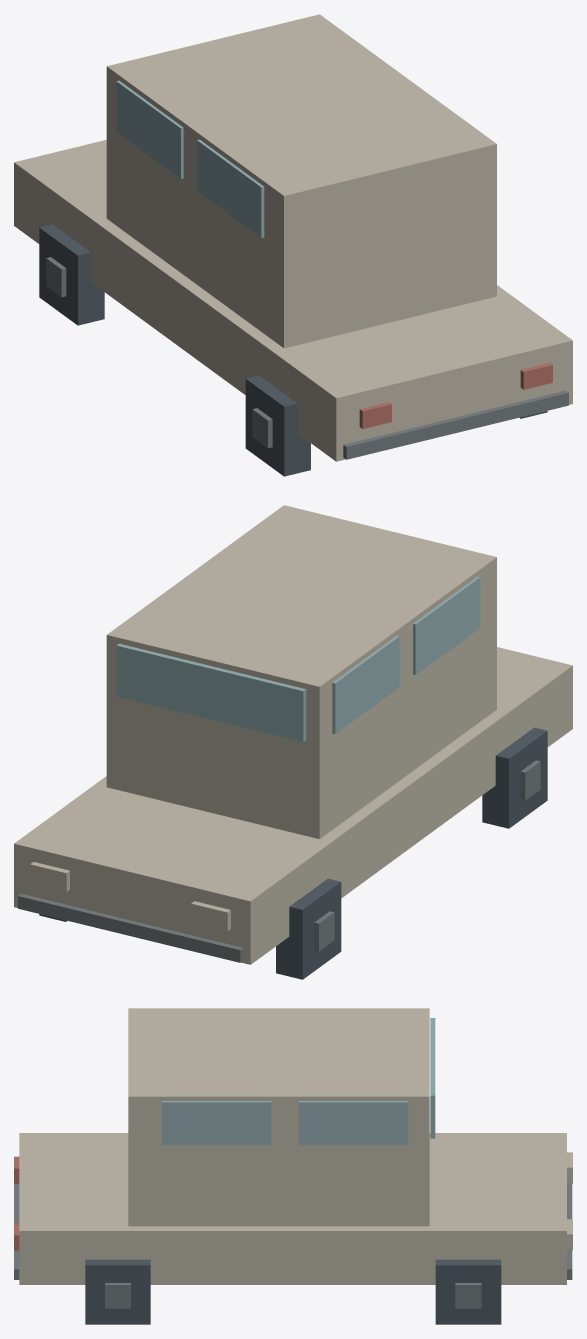
Rendered from van.glb.
3 renders of one model, top to bottom at view 1: azimuth 30°, elevation 25°; view 2: azimuth 150°, elevation 25°; view 3: azimuth 270°, elevation 25°, orthographic. The views are drawn at different scales.
Parts seen in each view (by area): view 1: body, wheel_-0.975_1.472, wheel_-0.975_-1.472; view 2: body, wheel_-0.975_1.472, wheel_-0.975_-1.472; view 3: body, wheel_0.975_-1.472, wheel_0.975_1.472.
Boxes of the visible parts, x1=… form: body: x1=14, y1=14, x2=572, y2=461; wheel_-0.975_1.472: x1=245, y1=375, x2=310, y2=476; wheel_-0.975_-1.472: x1=39, y1=224, x2=104, y2=325; body: x1=14, y1=505, x2=572, y2=964; wheel_-0.975_1.472: x1=482, y1=727, x2=547, y2=828; wheel_-0.975_-1.472: x1=276, y1=878, x2=341, y2=979; body: x1=14, y1=1008, x2=572, y2=1284; wheel_0.975_-1.472: x1=435, y1=1259, x2=501, y2=1324; wheel_0.975_1.472: x1=85, y1=1259, x2=150, y2=1324.
Bounding box in the file's own units: 2.25 × 2.01 × 4.69.
